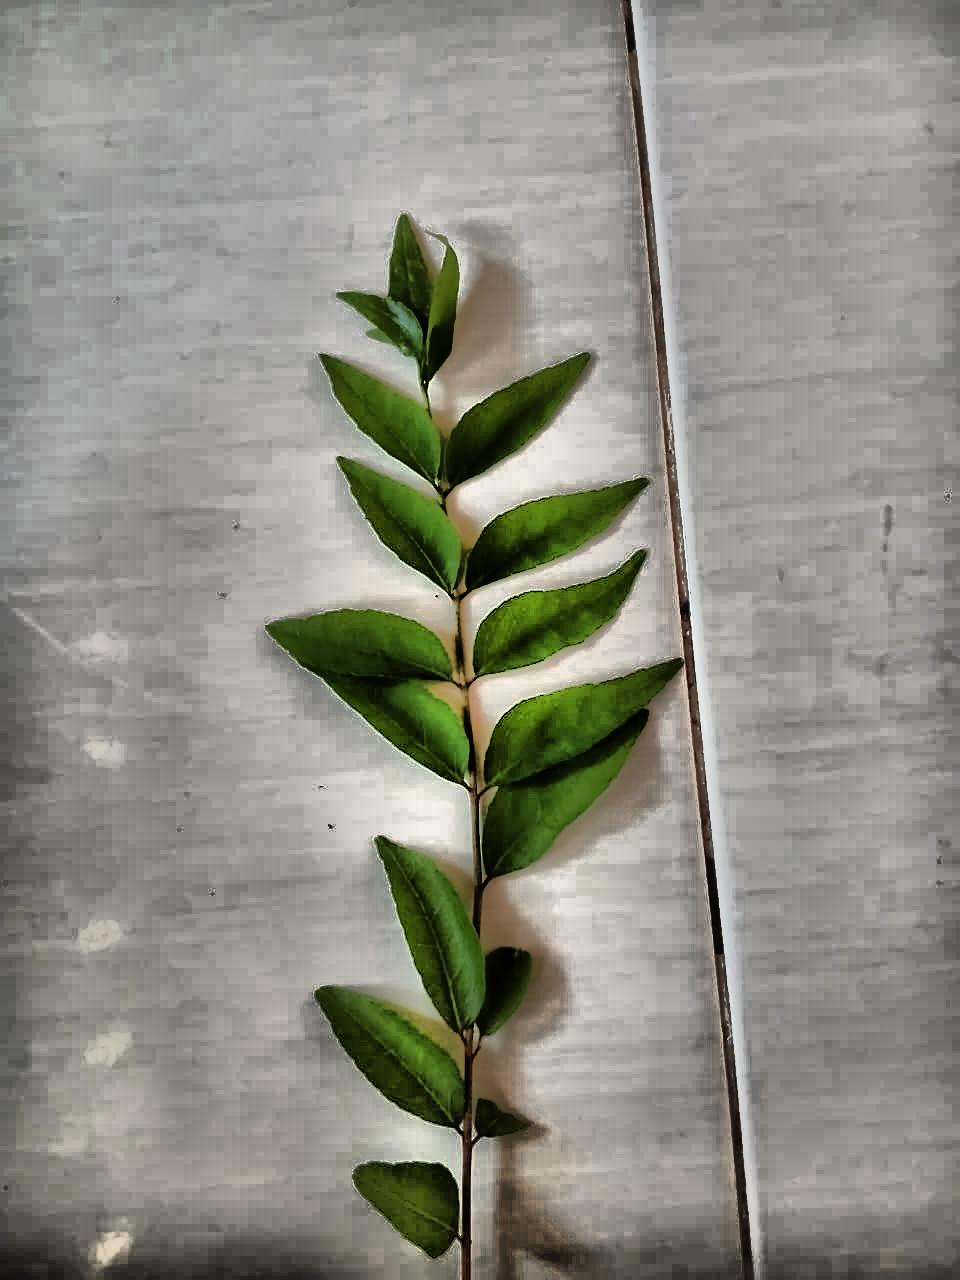daun kari: (266, 219, 681, 1279)
